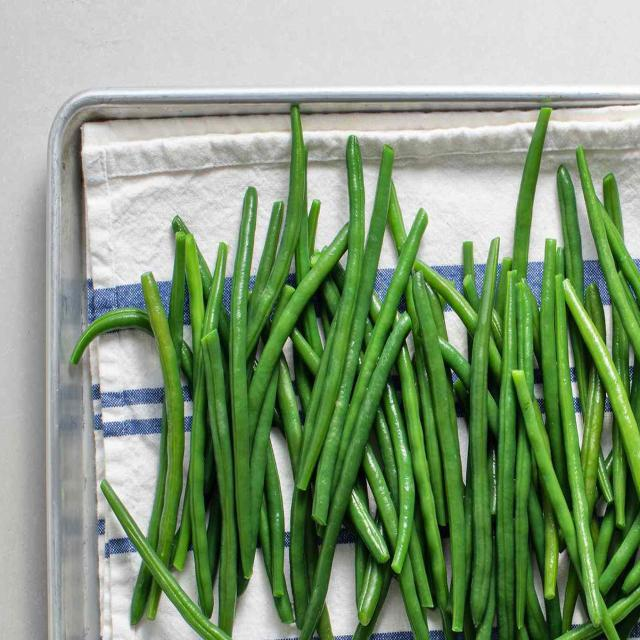Beans: (81, 164, 640, 640)
